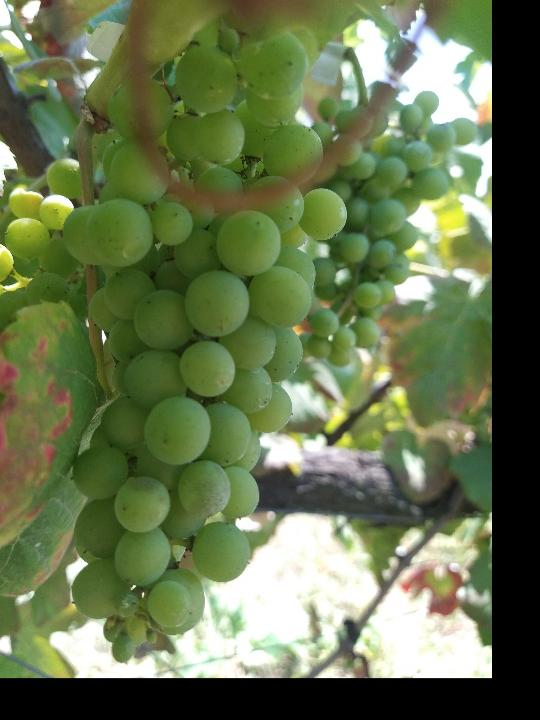grape: (56, 27, 352, 670)
